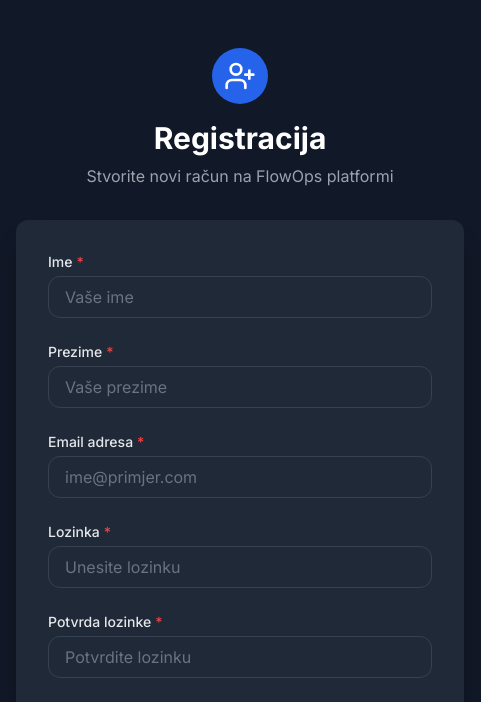
RegisterPage › shows validation error for weak password
The width and height of the screenshot is (481, 702).
Type "Ivan" into the field with placeholder "Vaše ime" at (240, 297), box [48,276,432,318]
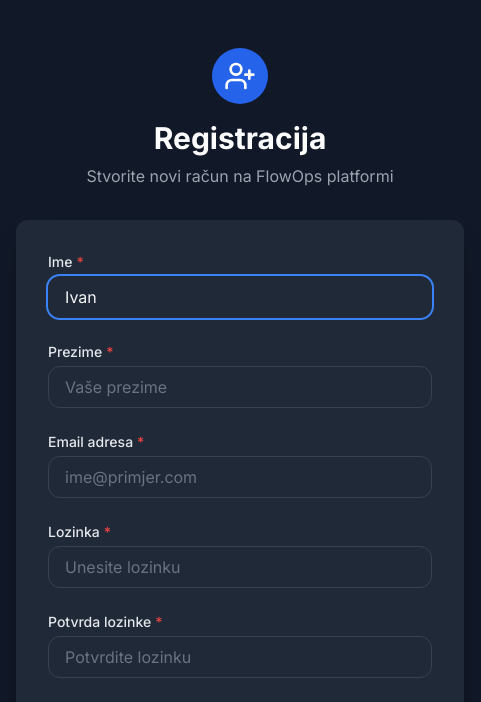
Type "Horvat" into the field with placeholder "Vaše prezime" at (240, 387), box [48,366,432,408]
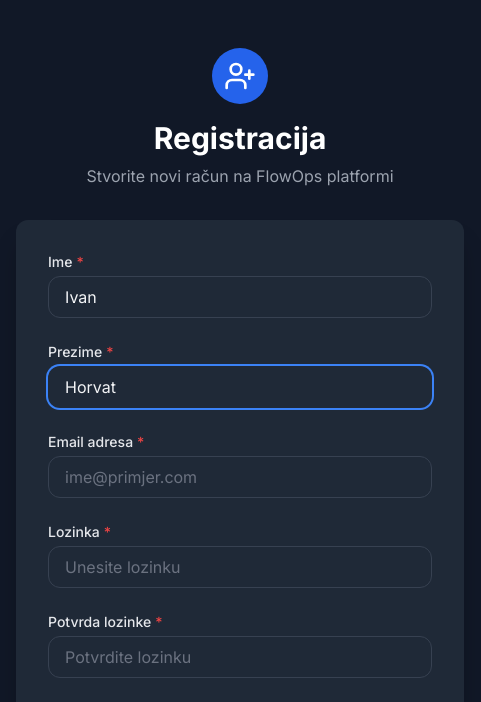
Type "test@example.com" into the field labelled "Email adresa*" at (240, 477), box [48,456,432,498]
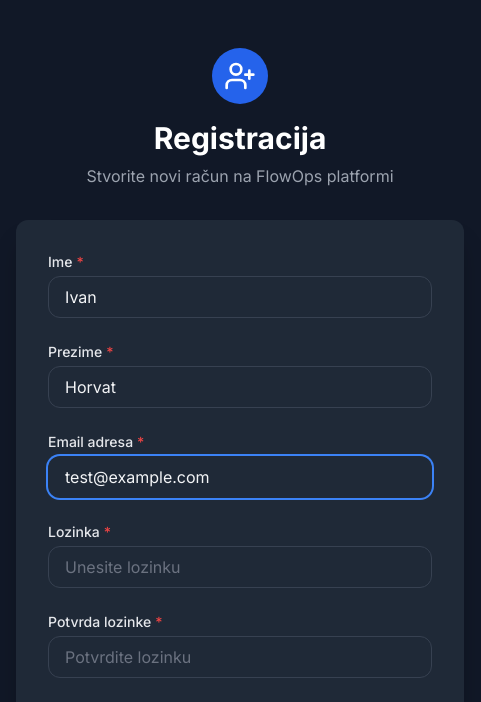
Type "weak" into the password field with placeholder "Unesite lozinku" at (240, 567), box [48,546,432,588]
(page scrolled)
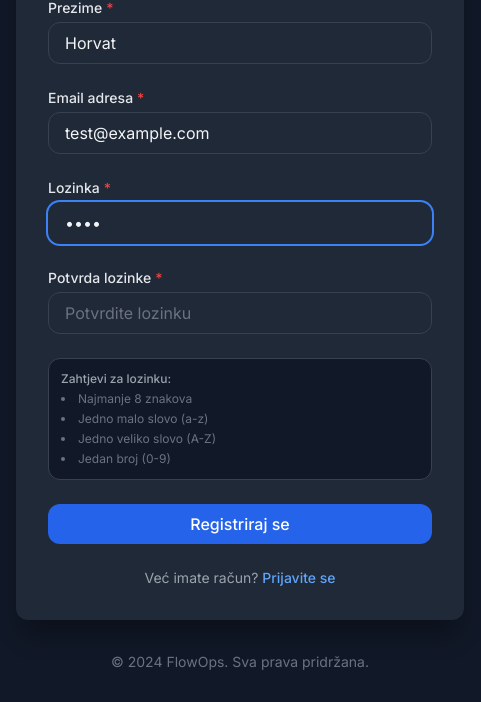
Click the button "Registriraj se" at (240, 524), box [48,504,432,544]
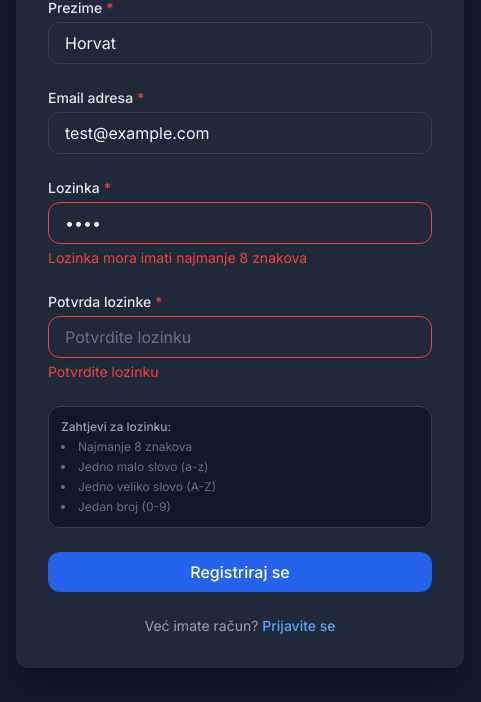
Expected: the text "Lozinka mora imati najmanje 8 znakova" is shown, [48,249,307,266]
